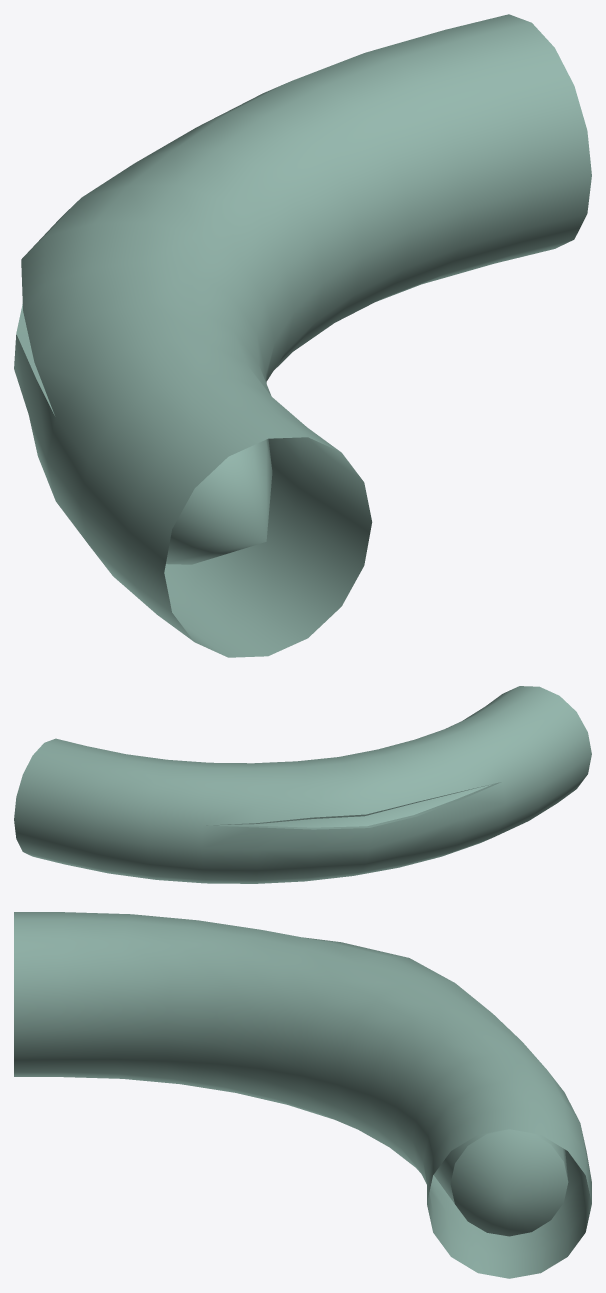
Rendered from PipeLarge_BrokenBent_02.fbx.
The picture shows the model from 3 angles, top to bottom: view 1: azimuth 30°, elevation 25°; view 2: azimuth 150°, elevation 25°; view 3: azimuth 270°, elevation 25°; orthographic projection. The views are drawn at different scales.
Visible parts, largest first — view 1: PipeLarge_BrokenBent_02.001; view 2: PipeLarge_BrokenBent_02.001; view 3: PipeLarge_BrokenBent_02.001.
Part boxes in pixels (x1=…): PipeLarge_BrokenBent_02.001: x1=14, y1=14, x2=591, y2=657; PipeLarge_BrokenBent_02.001: x1=14, y1=686, x2=591, y2=883; PipeLarge_BrokenBent_02.001: x1=14, y1=912, x2=591, y2=1278.
Size of the model in its own units: 0.7 by 0.2001 by 0.7.
